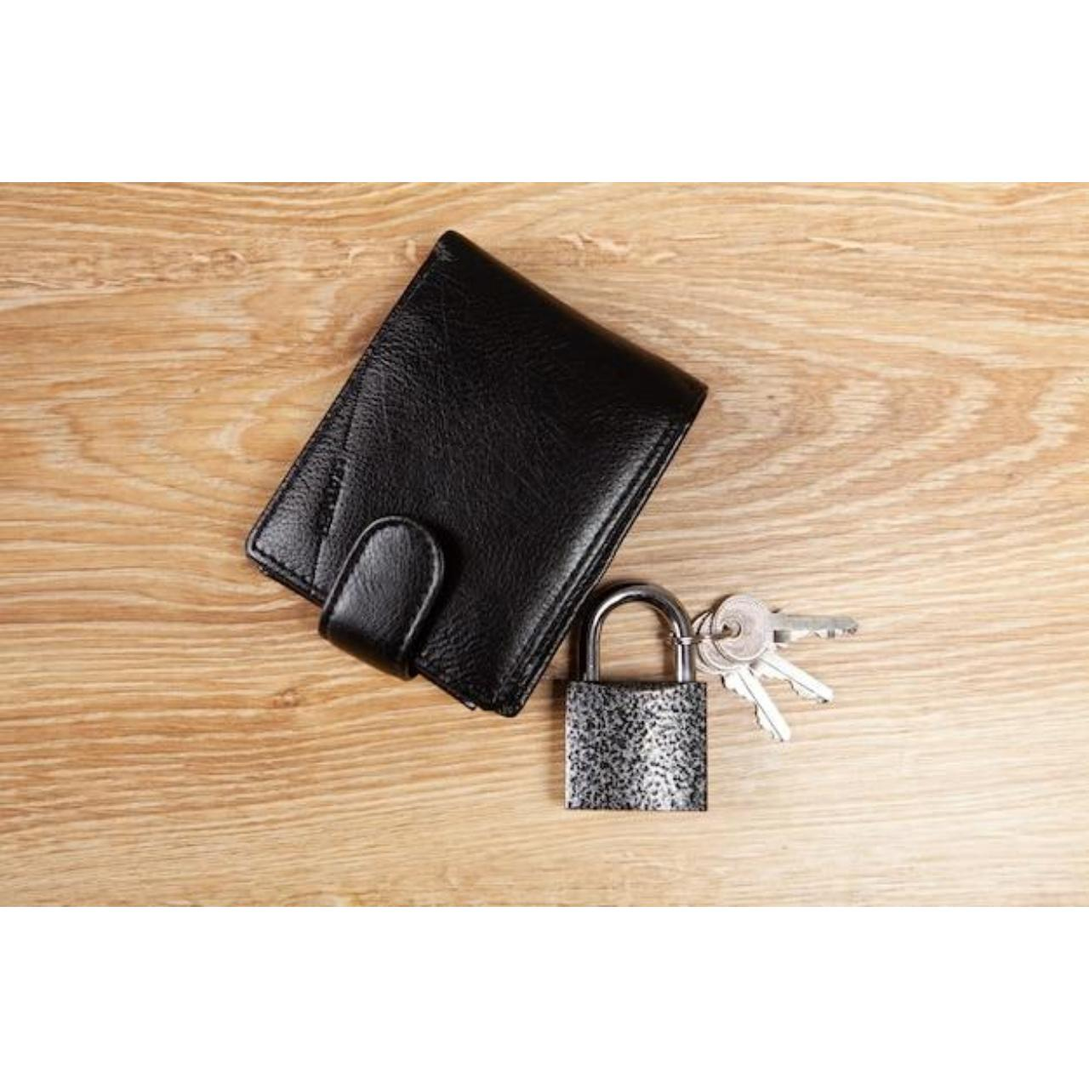wallet: (191, 214, 718, 687)
